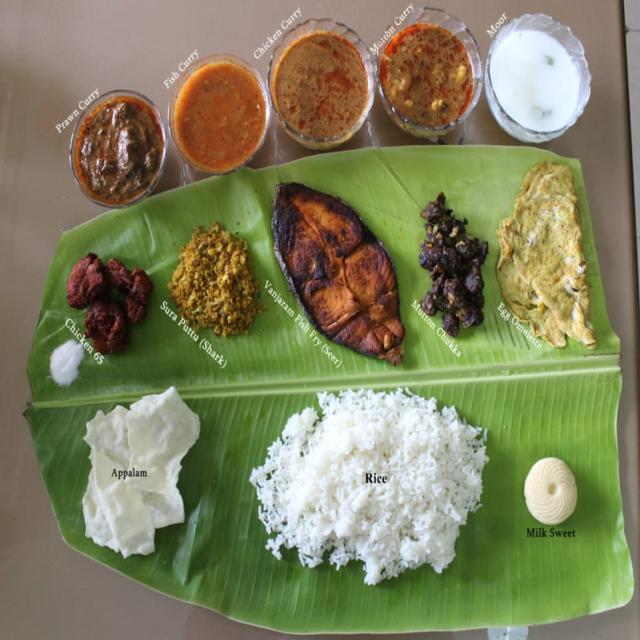non veg meals: (26, 4, 640, 597)
